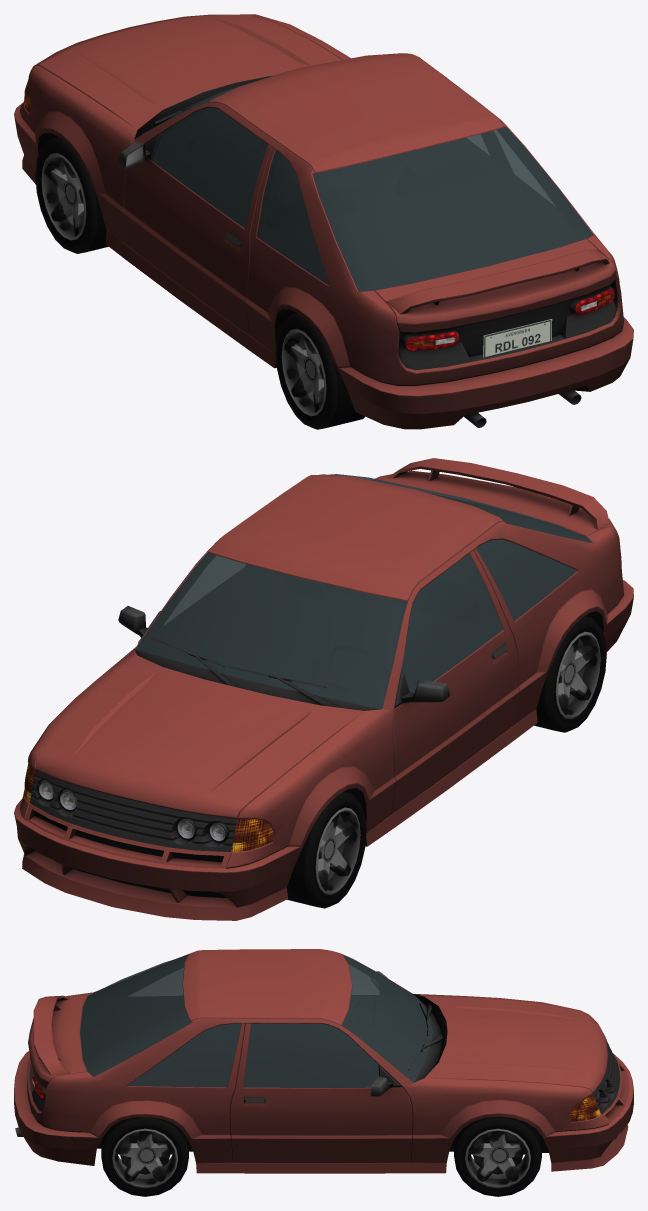
The model's file is coupe.glb.
The picture shows the model from 3 angles, top to bottom: view 1: azimuth 30°, elevation 25°; view 2: azimuth 150°, elevation 25°; view 3: azimuth 270°, elevation 25°; orthographic projection. The views are drawn at different scales.
Visible parts, largest first — view 1: body, wheel_rl, wheel_fl, Registration; view 2: body, wheel_fl, wheel_rl; view 3: body, wheel_fr, wheel_rr.
Boxes of the visible parts, x1,y1,x2,y2 form: body: (14,14,633,429); wheel_rl: (275,313,365,429); wheel_fl: (35,137,108,253); Registration: (483,319,552,357); body: (14,458,633,920); wheel_fl: (287,792,366,908); wheel_rl: (534,616,606,732); body: (14,949,633,1173); wheel_fr: (454,1116,541,1196); wheel_rr: (101,1117,188,1196).
Size of the model in its own units: 2.05 by 1.39 by 4.6.
Materials: 6 (5 with a texture image).
